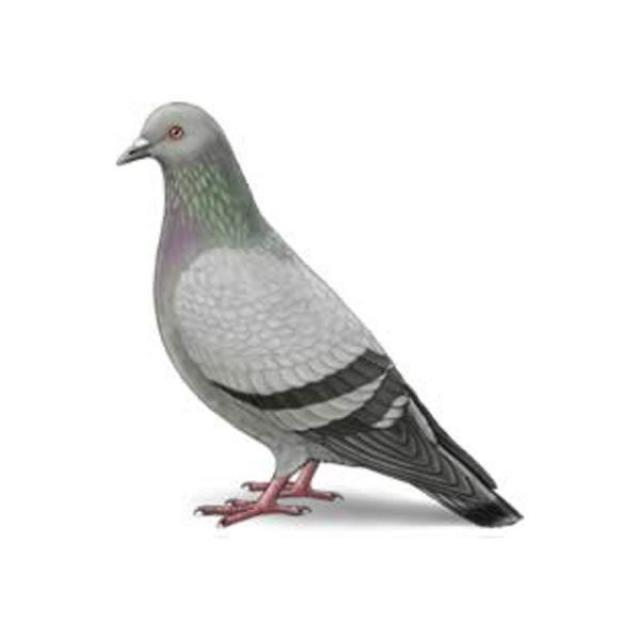Pigeon: (116, 84, 532, 539)
